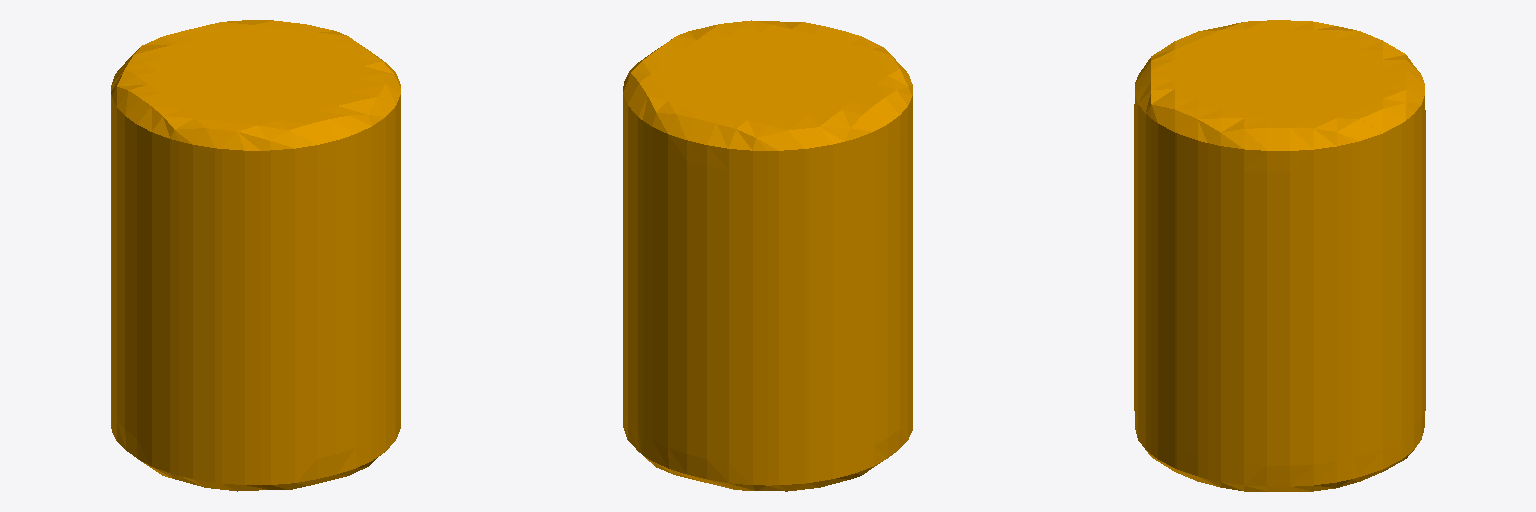
The robot description file, URDF, robot "cylinder_../../meshes/cylinders/cylinder_27.stl":
<?xml version="1.0" encoding="utf-8"?>  <robot name="cylinder_../../meshes/cylinders/cylinder_27.stl">   <link name="cylinder_../../meshes/cylinders/cylinder_27.stl">     <visual>       <geometry>         <mesh filename="../meshes/cylinders/cylinder_27.stl" scale="1 1 1"/>       </geometry>     </visual>     <collision>       <geometry>         <mesh filename="../meshes/cylinders/cylinder_27.stl" scale="1 1 1"/>       </geometry>     </collision>     <inertial>        <origin         xyz="0 0 0"         rpy="0 0 0" />       <mass value="0.2659462642875075"/>       <origin rpy="0 0 0" xyz="0 0 0"/>       <inertia ixx="0.00022846946416202045" ixy="-3.0701228034199557e-09" ixz="-7.568936756410652e-09" iyy="0.00022846943230330692" iyz="-5.965610590745396e-09" izz="0.00013030506442374235"/>     </inertial>   </link>  </robot>

--- Facts derived from the render (not from the file) ---
The picture shows the robot from 3 angles, left to right: view 1: azimuth 30°, elevation 25°; view 2: azimuth 150°, elevation 25°; view 3: azimuth 270°, elevation 25°; orthographic projection.
Robot: cylinder_../../meshes/cylinders/cylinder_27.stl — 1 links, 0 joints (none); root link cylinder_../../meshes/cylinders/cylinder_27.stl; default pose: every joint at zero.
Links seen in each view (by area): view 1: cylinder_../../meshes/cylinders/cylinder_27.stl; view 2: cylinder_../../meshes/cylinders/cylinder_27.stl; view 3: cylinder_../../meshes/cylinders/cylinder_27.stl.
Boxes of the visible links, left/top/right/bottom form: cylinder_../../meshes/cylinders/cylinder_27.stl: left=111, top=20, right=400, bottom=491; cylinder_../../meshes/cylinders/cylinder_27.stl: left=623, top=20, right=912, bottom=491; cylinder_../../meshes/cylinders/cylinder_27.stl: left=1134, top=20, right=1425, bottom=491.
Size in the robot's own frame: 0.0628 by 0.0628 by 0.0865 metres.
Meshes: 1 distinct files referenced, 1 mesh visuals loaded (1 binary STL).